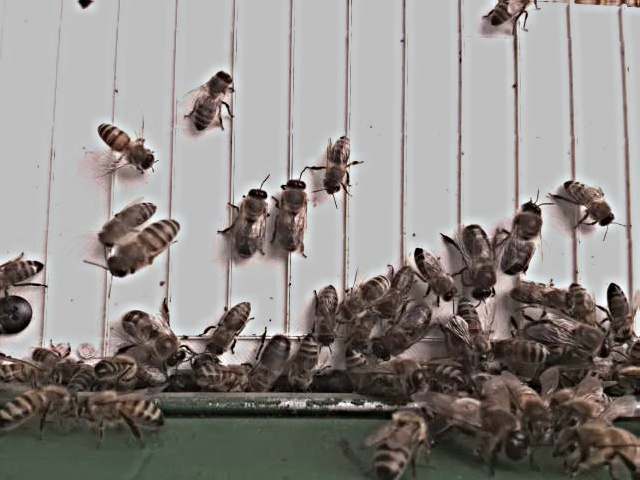Drone: (525, 310, 616, 358), (371, 301, 437, 361), (126, 307, 186, 367), (500, 198, 546, 276), (275, 173, 313, 256), (460, 220, 498, 302), (232, 184, 270, 258), (251, 329, 293, 391)
Worker: (110, 216, 183, 274), (80, 389, 166, 425), (98, 119, 157, 168), (100, 197, 160, 245), (191, 67, 234, 131), (562, 178, 618, 227), (336, 272, 394, 319), (206, 298, 254, 352), (412, 244, 458, 300), (508, 278, 578, 312), (606, 281, 640, 344), (381, 262, 419, 318), (455, 295, 487, 358), (322, 132, 354, 193), (492, 335, 551, 367), (314, 279, 342, 342), (291, 330, 320, 388), (0, 255, 48, 288)
